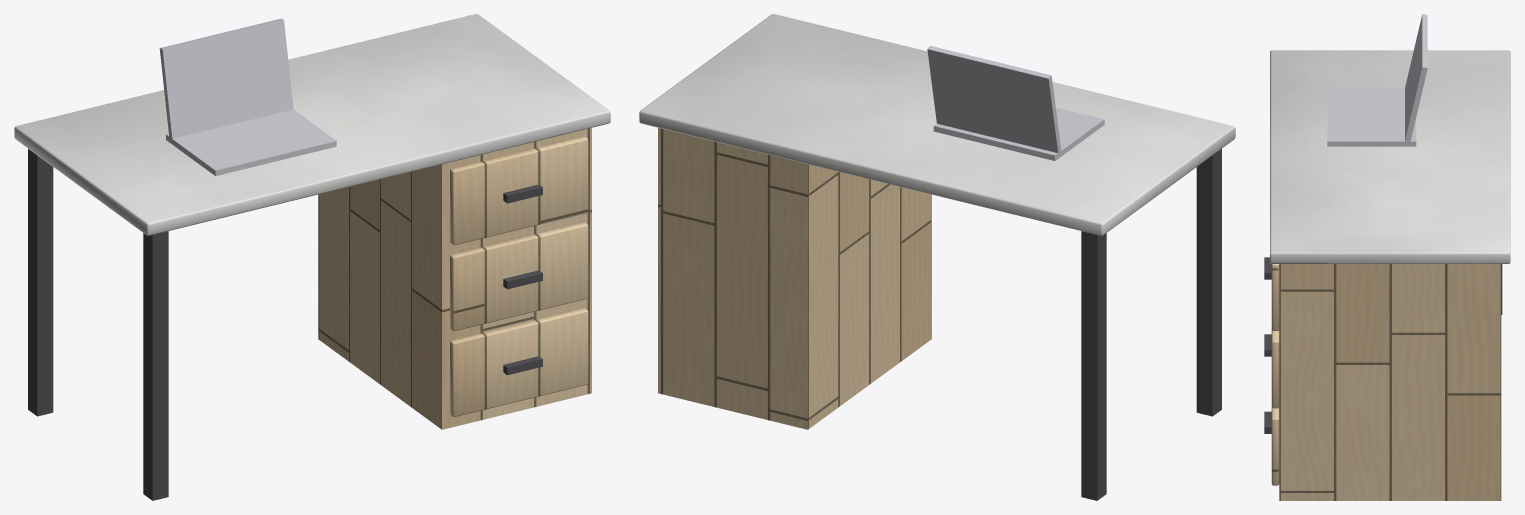
The picture shows the model from 3 angles, left to right: view 1: azimuth 30°, elevation 25°; view 2: azimuth 150°, elevation 25°; view 3: azimuth 270°, elevation 25°; orthographic projection. The views are drawn at different scales.
Visible parts, largest first — view 1: Decor_desk_study; view 2: Decor_desk_study; view 3: Decor_desk_study.
Part boxes in pixels (box(x1,y1,x2,y2)): Decor_desk_study: box(14, 14, 610, 500); Decor_desk_study: box(639, 14, 1235, 500); Decor_desk_study: box(1264, 14, 1510, 500).
Size of the model in its own units: 1.3 by 0.994 by 0.665.
Materials: 4 (2 with a texture image).
